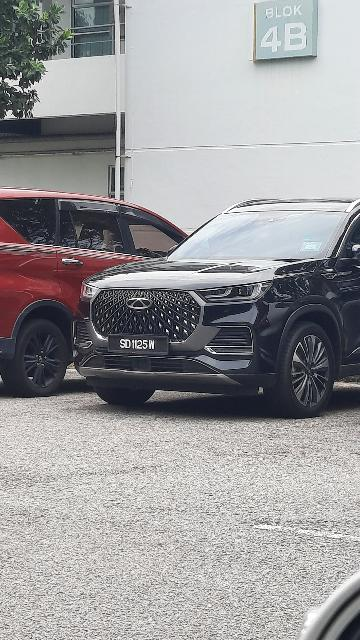License_Plate: (107, 333, 174, 359)
car: (72, 195, 358, 409)
